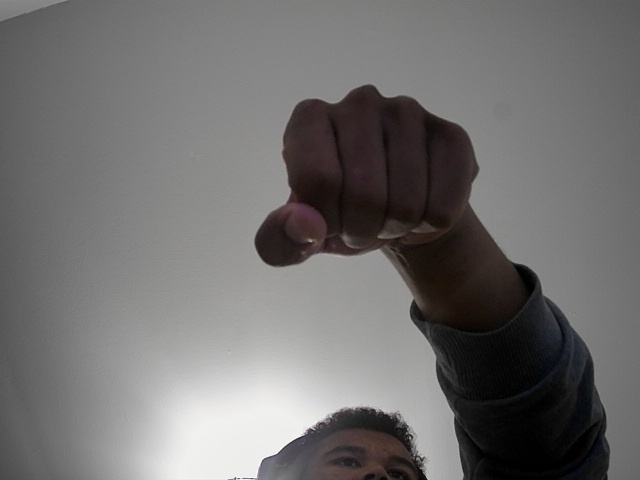Yes: (210, 80, 485, 270)
